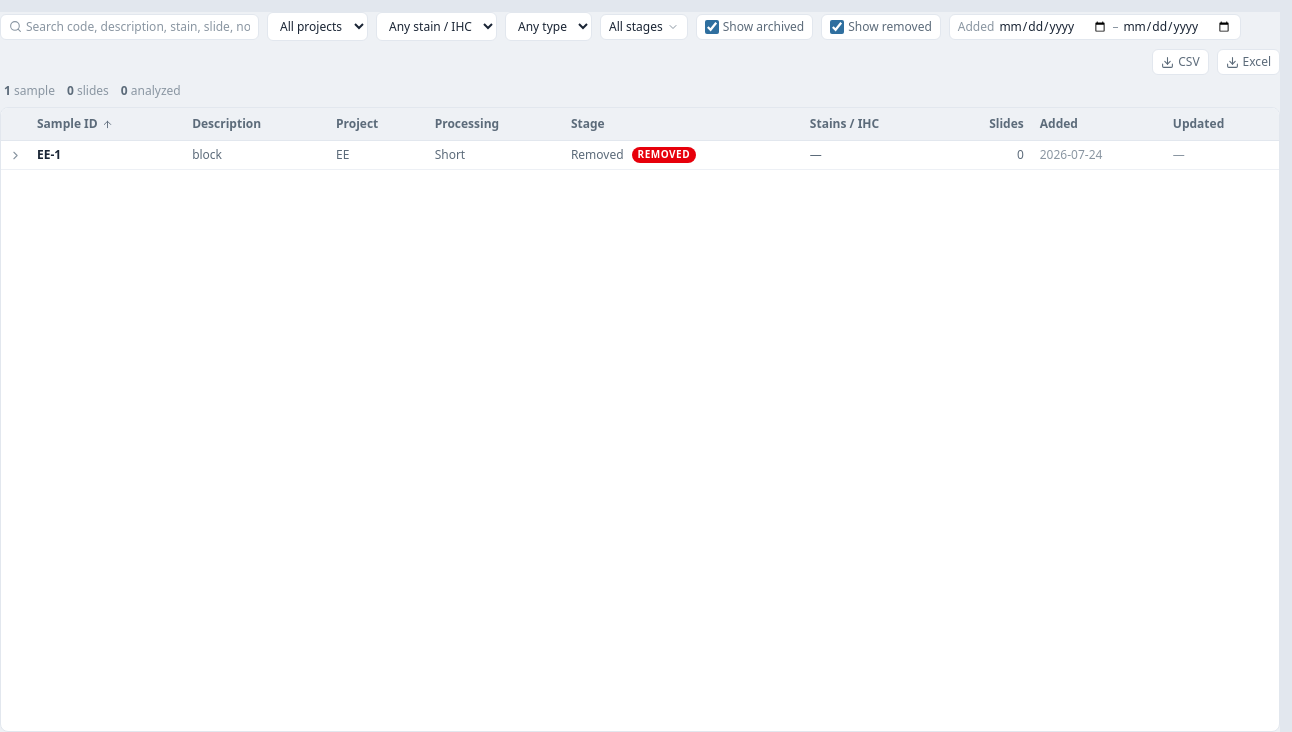
Test: LogsView — removing a sample › offers no Remove for a sample that is already removed
The image size is (1292, 732).
Click the text "EE-1".
click(49, 155)  # box [37,147,61,163]
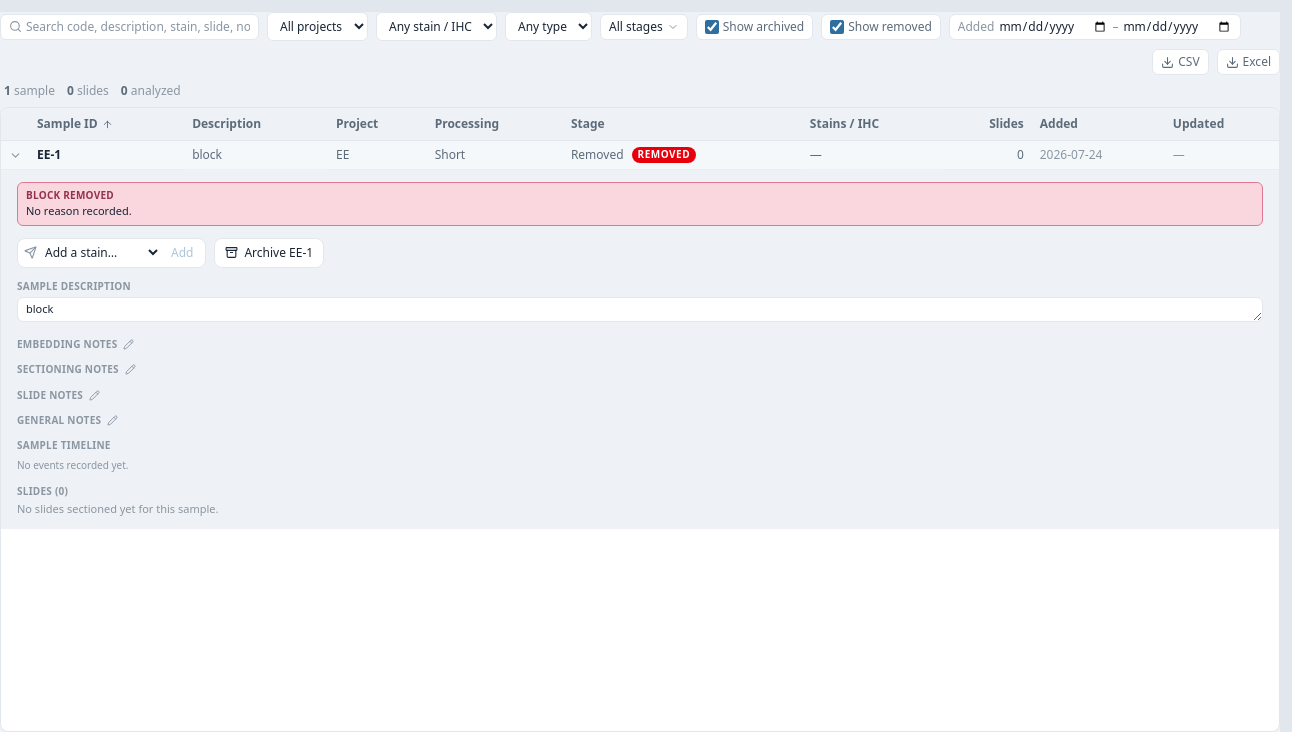
Result: the button "Archive EE-1" is shown at [214,238,324,268]
